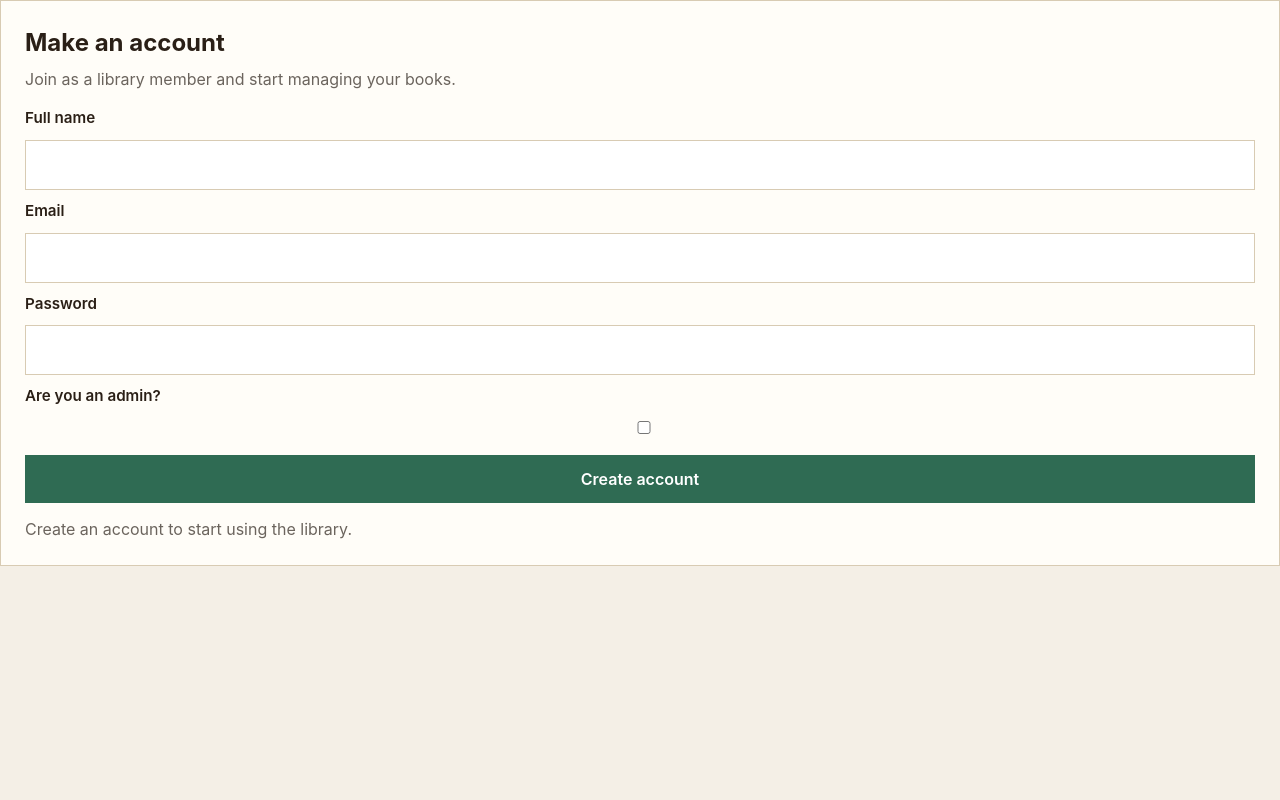
Scenario: Form › shows password validation message
Type "Test User" into the field labelled "Full name". click: x=640, y=165
box: [25,140,1255,190]
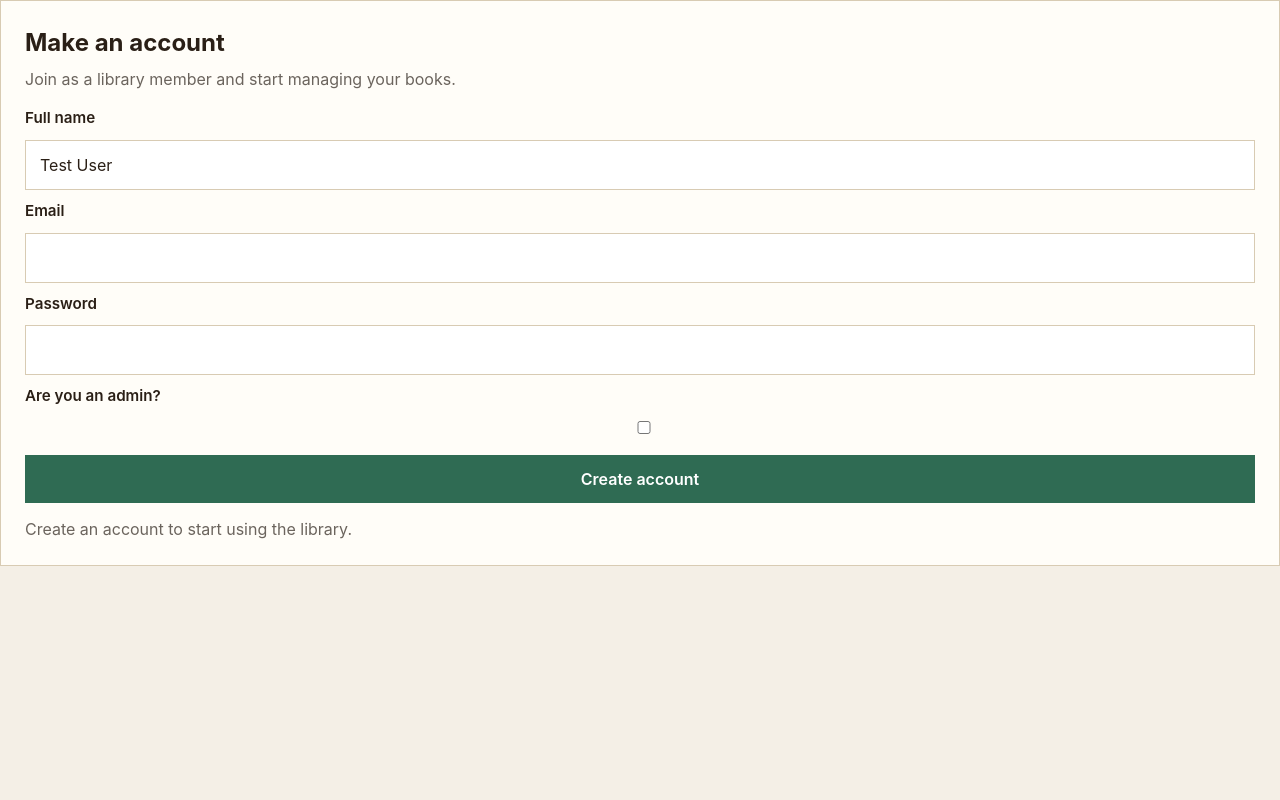
Type "a@b.com" into the field labelled "Email". click: x=640, y=258
box: [25,233,1255,283]
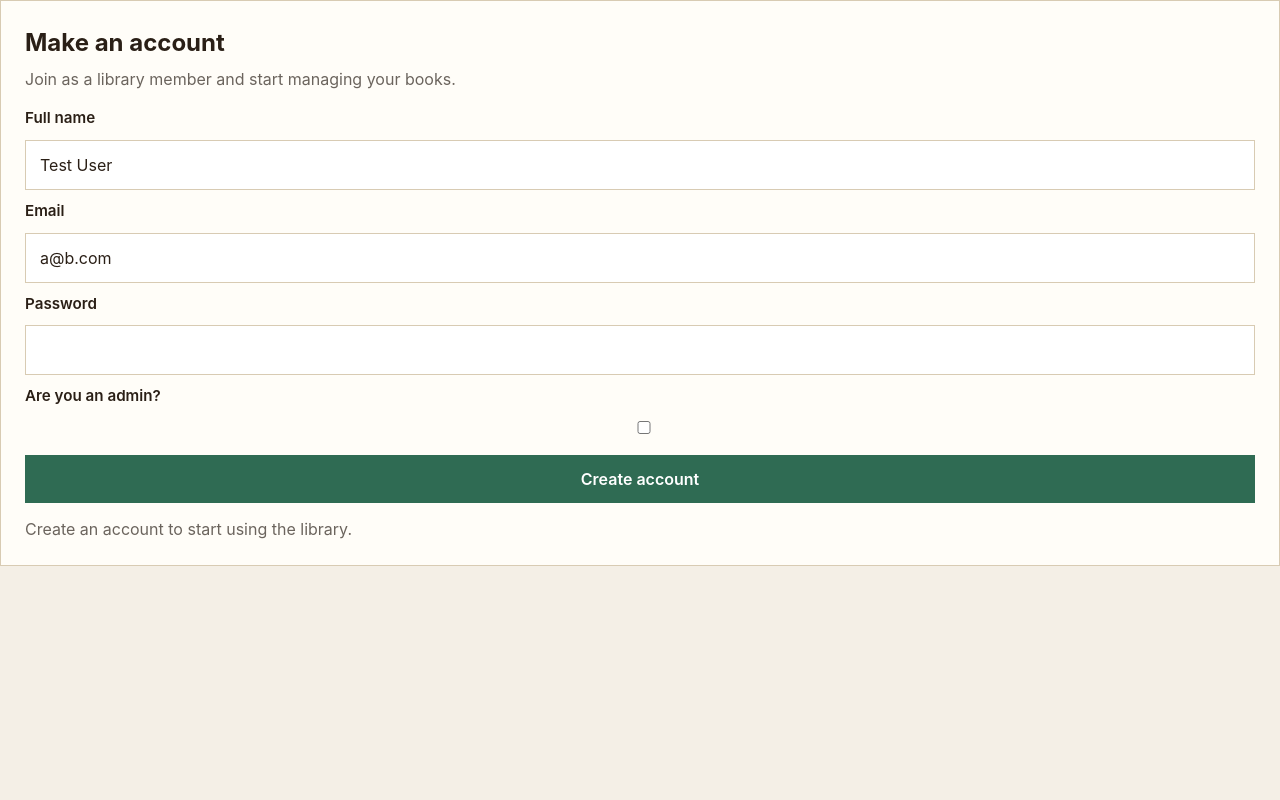
Type "short" into the password field labelled "Password". click: x=640, y=350
box: [25,325,1255,375]
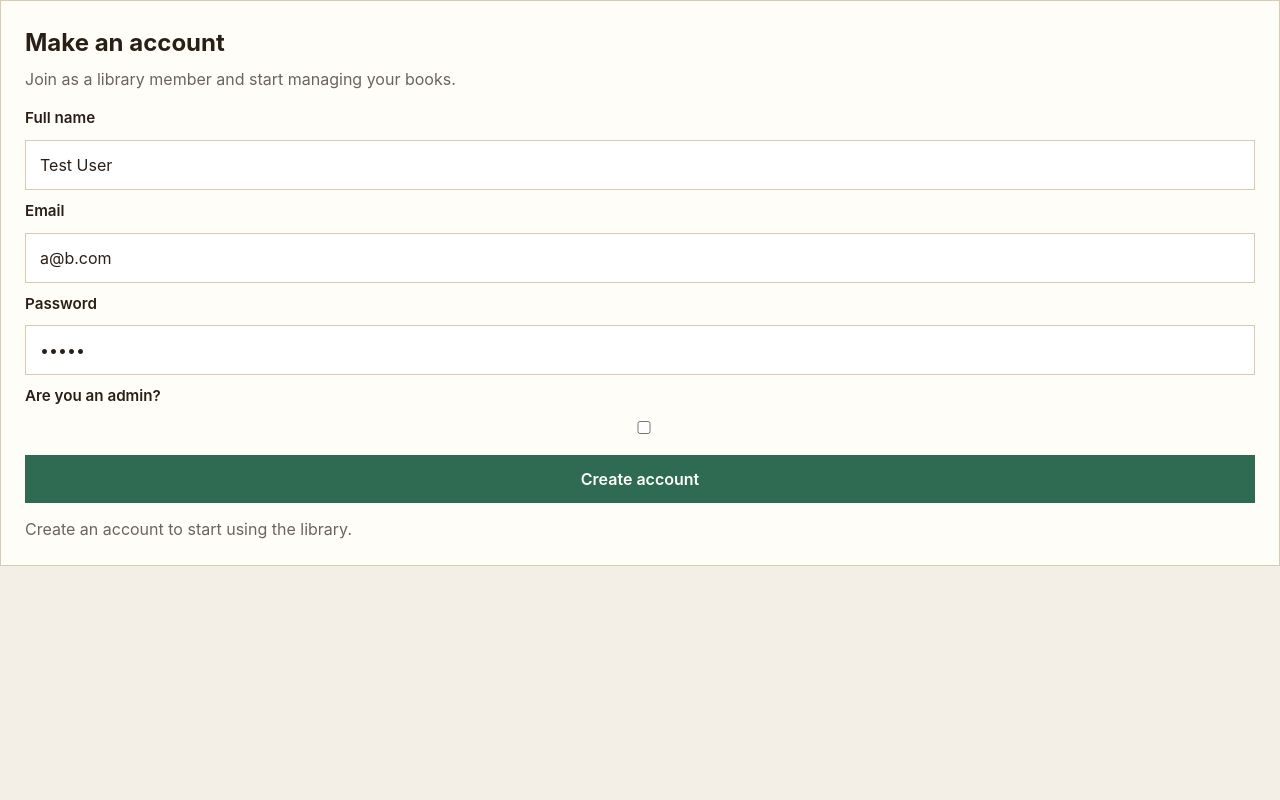
Click the button "Create account". click: x=640, y=479
box: [25,455,1255,503]
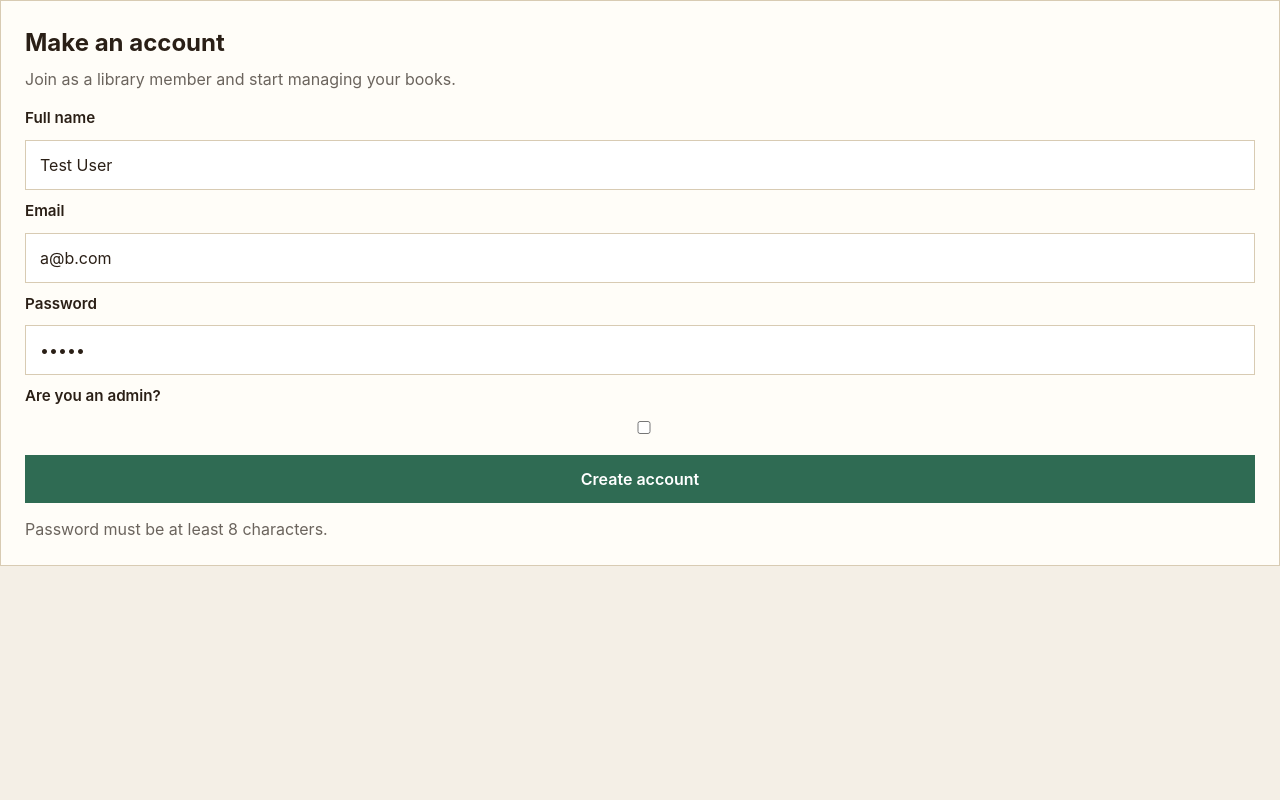
Now the text "Password must be at least 8 characters." is shown, box [25,519,328,539]
